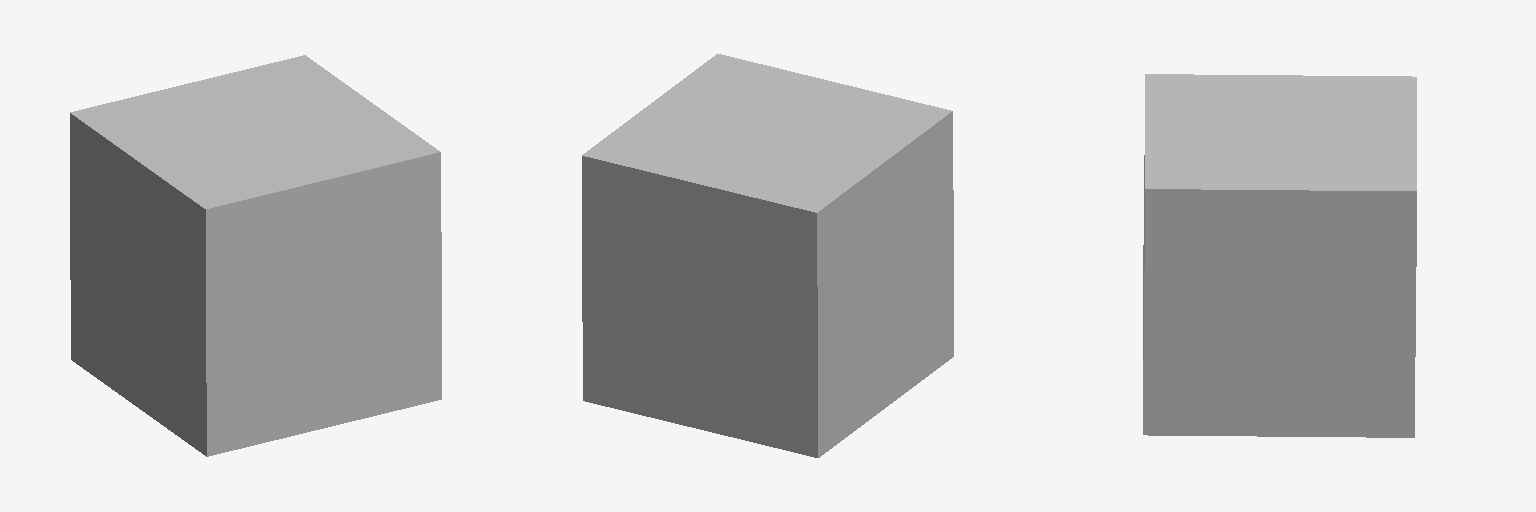
The model's file is finalFIle_000023.obj.
The picture shows the model from 3 angles: view 1: azimuth 30°, elevation 25°; view 2: azimuth 150°, elevation 25°; view 3: azimuth 270°, elevation 25°; orthographic projection.
Visible parts, largest first — view 1: Cube.005_Cube; view 2: Cube.005_Cube; view 3: Cube.005_Cube.
Boxes of the visible parts, x1,y1,x2,y2 form: Cube.005_Cube: [70, 55, 441, 456]; Cube.005_Cube: [582, 54, 953, 457]; Cube.005_Cube: [1143, 74, 1416, 437].
Size of the model in its own units: 115 by 116 by 116.